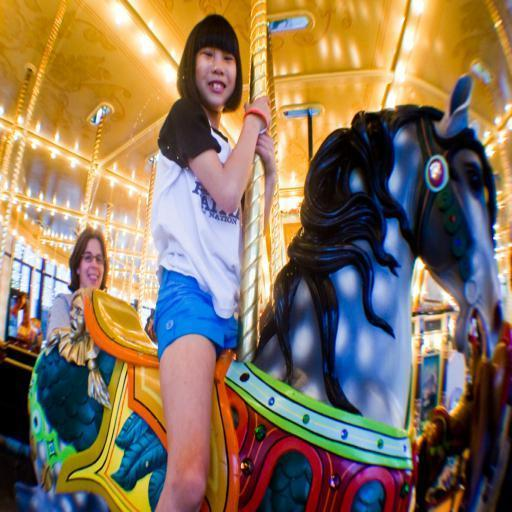horse: (52, 70, 505, 512)
